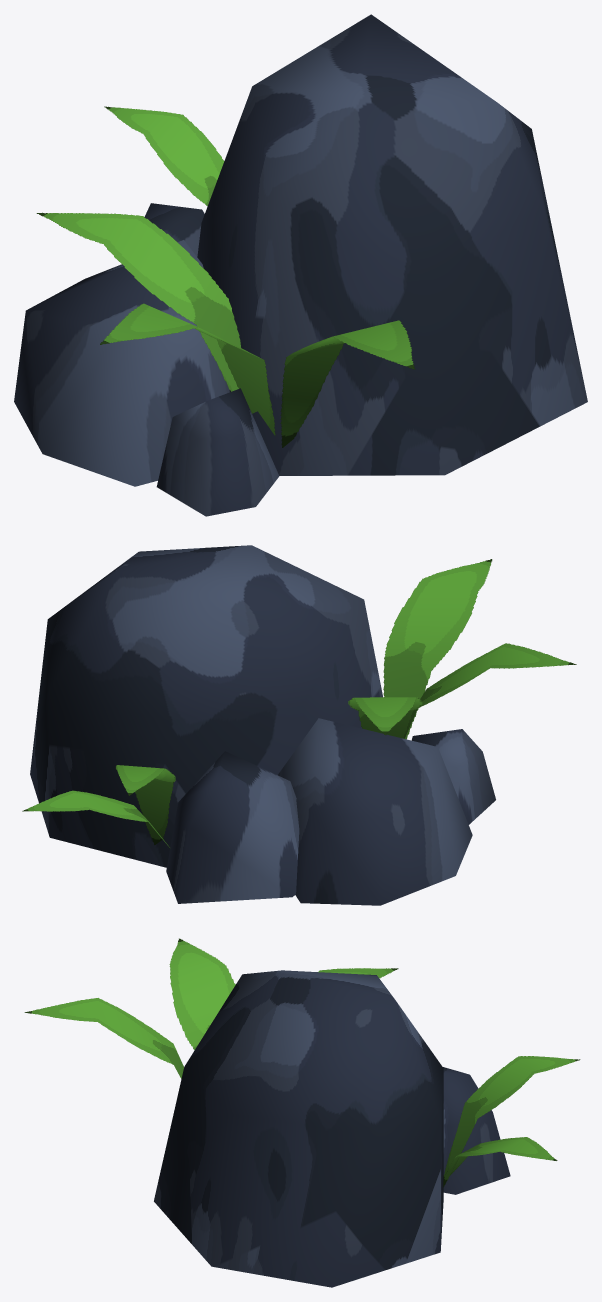
Rendered from Marble 1_preview_3DS_simplified.glb.
3 views of the same model, one above another, from view 1: azimuth 30°, elevation 25°; view 2: azimuth 150°, elevation 25°; view 3: azimuth 270°, elevation 25° (orthographic). The views are drawn at different scales.
Visible parts, largest first — view 1: Marine Park Empire model; view 2: Marine Park Empire model; view 3: Marine Park Empire model.
Boxes of the visible parts, left/top/right/bottom form: Marine Park Empire model: left=14, top=14, right=587, bottom=516; Marine Park Empire model: left=22, top=545, right=576, bottom=905; Marine Park Empire model: left=24, top=938, right=580, bottom=1287.
Size of the model in its own units: 35.83 by 18.88 by 41.77.
2 materials, 2 textured.
